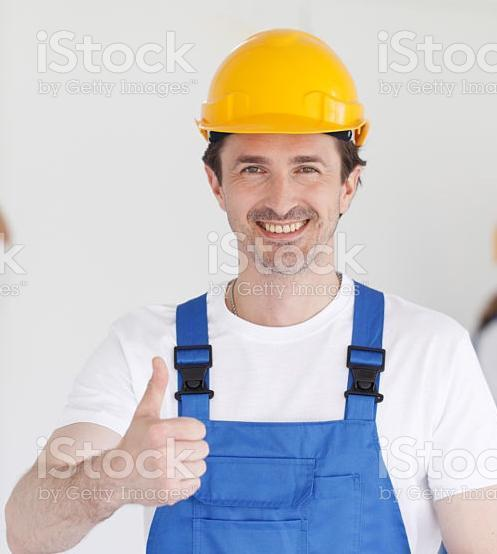helmet: (194, 26, 372, 143)
